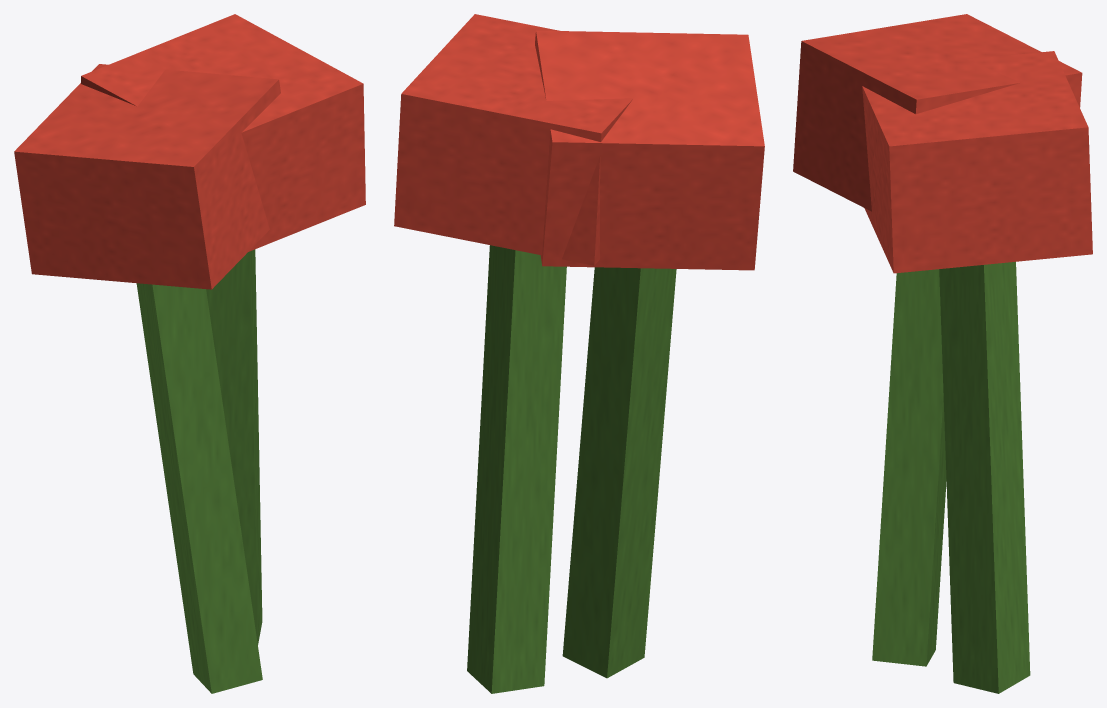
File: Deco_Fleurs_A.obj
3 views of the same model, side by side, from view 1: azimuth 30°, elevation 25°; view 2: azimuth 150°, elevation 25°; view 3: azimuth 270°, elevation 25° (orthographic). The views are drawn at different scales.
Parts seen in each view (by area): view 1: Deco_Fleurs_A; view 2: Deco_Fleurs_A; view 3: Deco_Fleurs_A.
Part boxes in pixels (x1=…): Deco_Fleurs_A: x1=14, y1=14, x2=365, y2=693; Deco_Fleurs_A: x1=394, y1=14, x2=764, y2=693; Deco_Fleurs_A: x1=793, y1=14, x2=1092, y2=693.
Bounding box in the file's own units: 0.7987 × 1.41 × 0.6525.
1 material, 1 textured.
